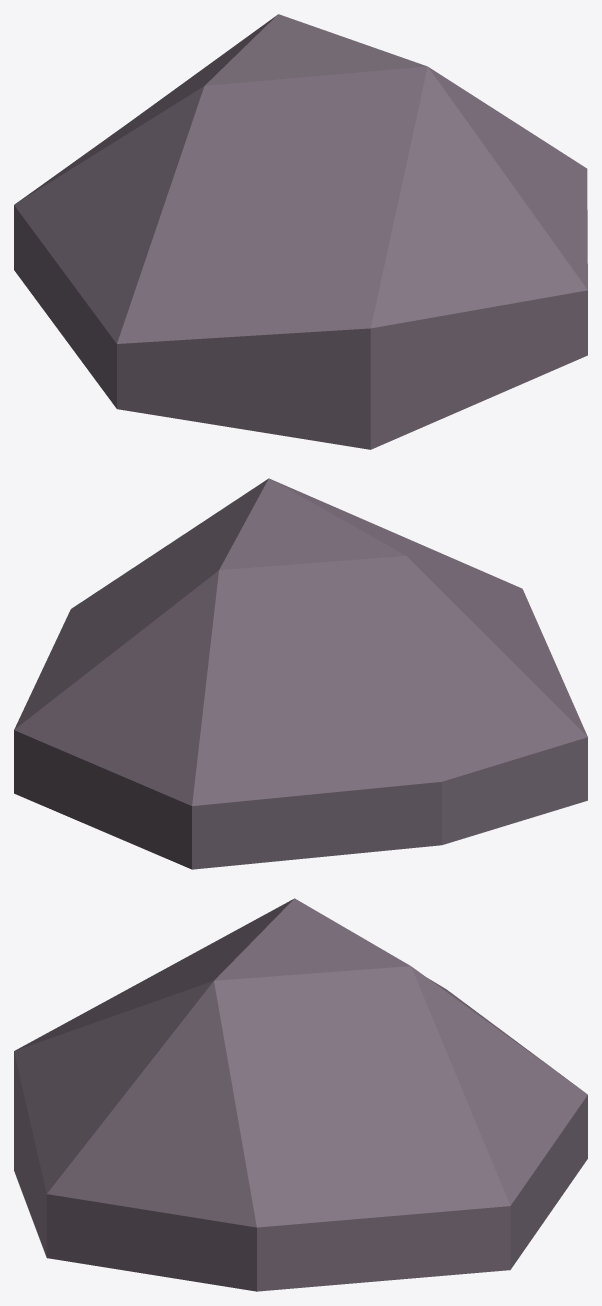
Rendered from Rock_v08.fbx.
The picture shows the model from 3 angles, top to bottom: view 1: azimuth 30°, elevation 25°; view 2: azimuth 150°, elevation 25°; view 3: azimuth 270°, elevation 25°; orthographic projection. The views are drawn at different scales.
Visible parts, largest first — view 1: Rock_v08; view 2: Rock_v08; view 3: Rock_v08.
Boxes of the visible parts, bbox=[...] form: Rock_v08: bbox=[14, 14, 587, 449]; Rock_v08: bbox=[14, 478, 587, 869]; Rock_v08: bbox=[14, 898, 587, 1291].
Bounding box in the file's own units: 14.13 × 7.3 × 14.27.
1 material, 1 textured.
